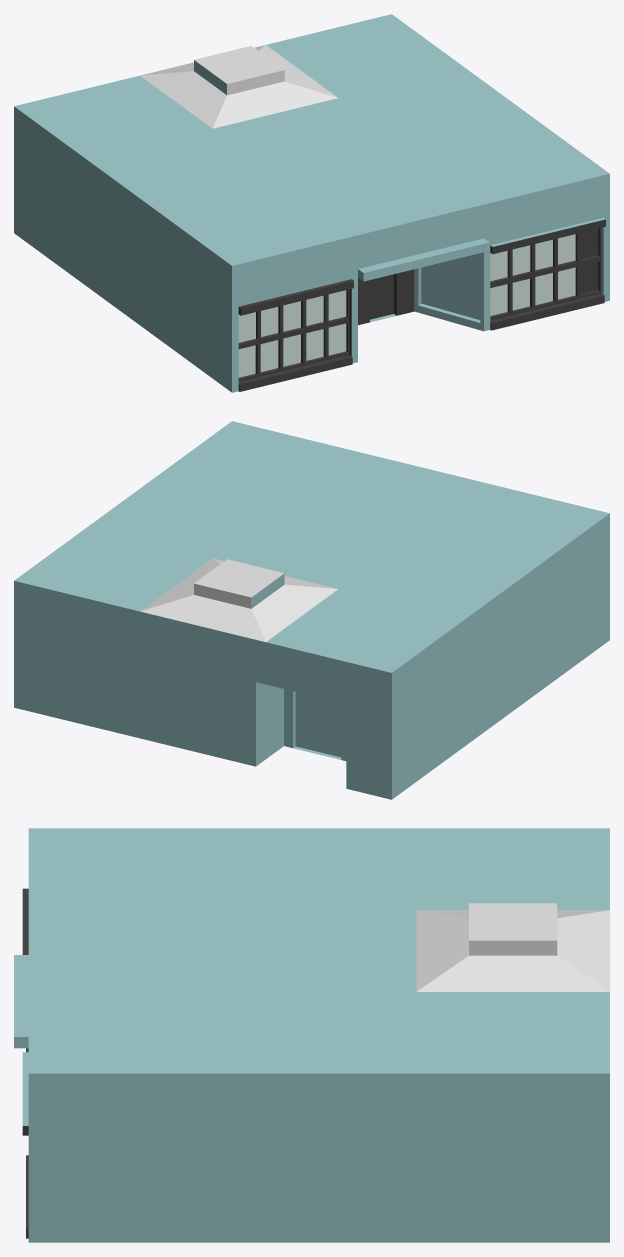
The model's file is storefront2.fbx.
3 renders of one model, top to bottom at view 1: azimuth 30°, elevation 25°; view 2: azimuth 150°, elevation 25°; view 3: azimuth 270°, elevation 25°, orthographic. The views are drawn at different scales.
Visible parts, largest first — view 1: pCube1; view 2: pCube1; view 3: pCube1.
Boxes of the visible parts, <box> form: pCube1: <box>14,14,609,392</box>; pCube1: <box>14,421,609,799</box>; pCube1: <box>14,828,609,1242</box>.
Bounding box in the file's own units: 1540 × 579 × 1579.
